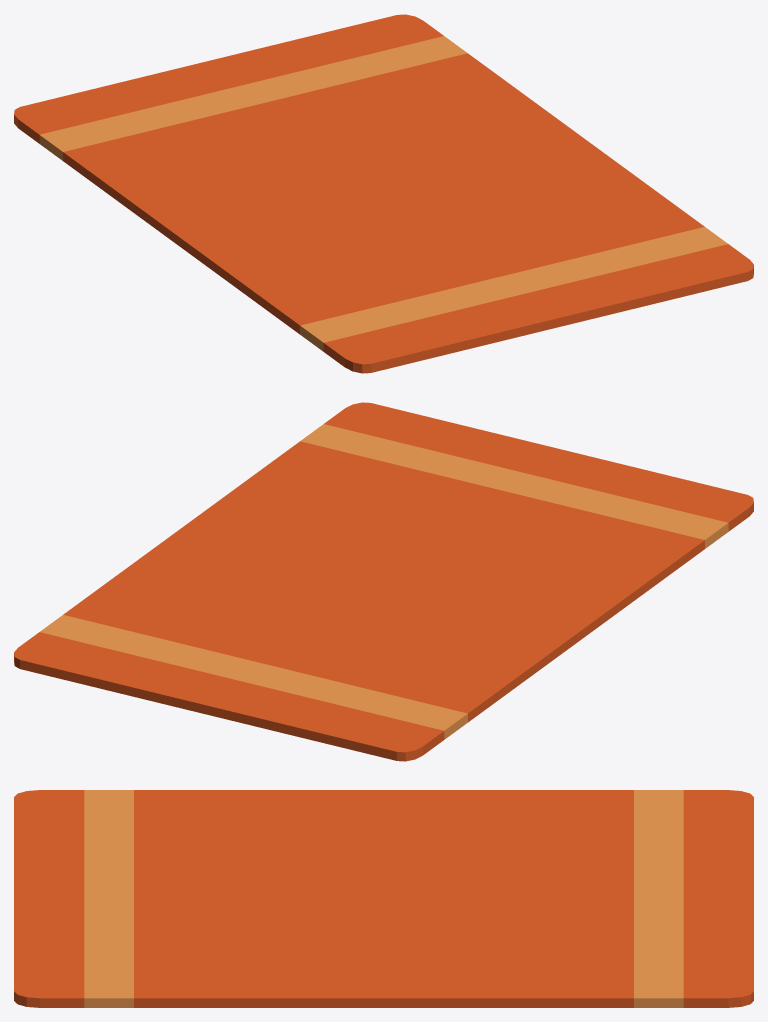
The model's file is Carpet_02.fbx.
The picture shows the model from 3 angles, top to bottom: view 1: azimuth 30°, elevation 25°; view 2: azimuth 150°, elevation 25°; view 3: azimuth 270°, elevation 25°; orthographic projection. The views are drawn at different scales.
Parts seen in each view (by area): view 1: Carpet_02; view 2: Carpet_02; view 3: Carpet_02.
Boxes of the visible parts, <box> form: Carpet_02: <box>14,14,753,373</box>; Carpet_02: <box>14,402,753,761</box>; Carpet_02: <box>14,790,753,1007</box>.
Size of the model in its own units: 63.68 by 1.38 by 95.64.
